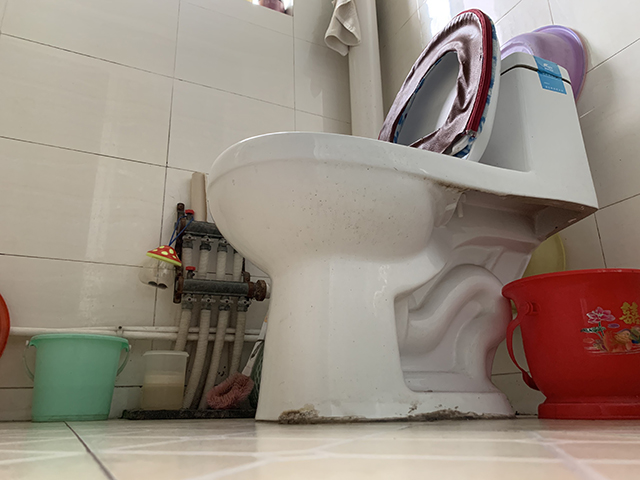closestool: (203, 7, 601, 427)
